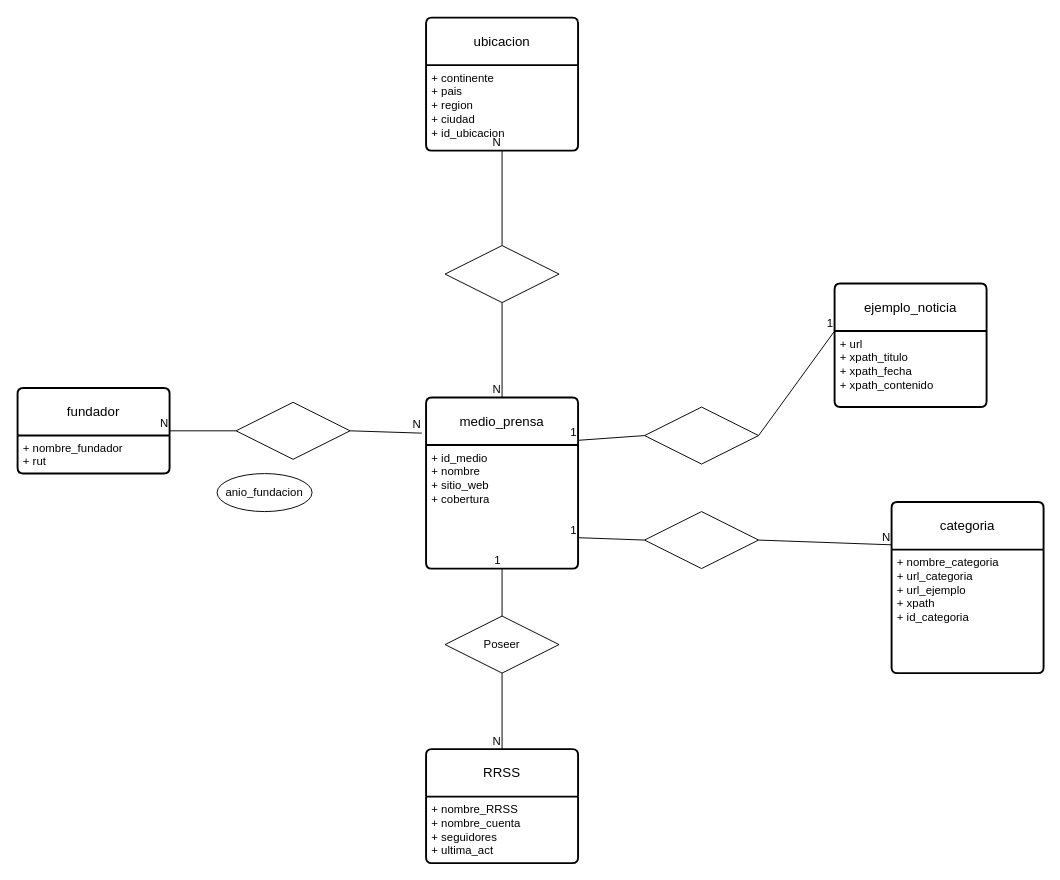
Some shapes in this 1060 by 880 pixel diagram are drawn without their labels. Each missing label, with the centre of its shape:
Abordar: (x=701, y=540)
Asentar: (x=501, y=274)
Crear: (x=292, y=430)
Tener: (x=701, y=435)
